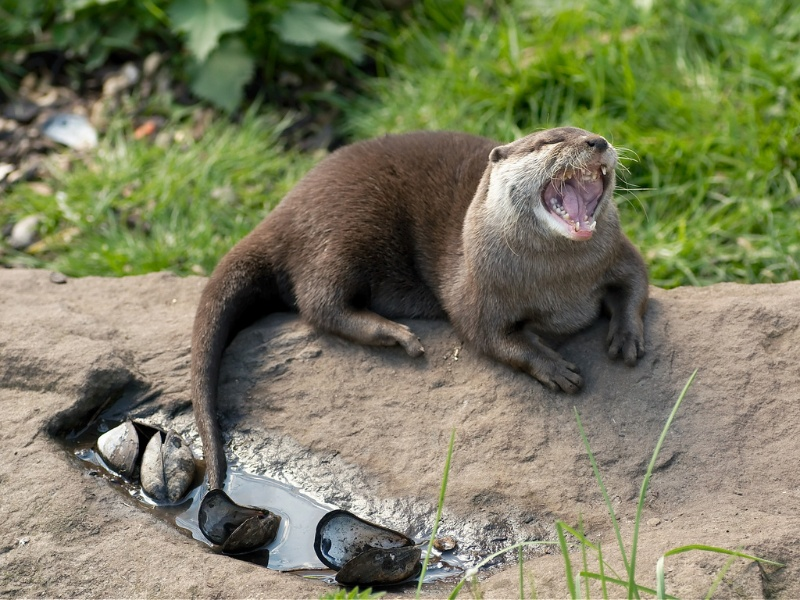minkish: (182, 123, 652, 508)
